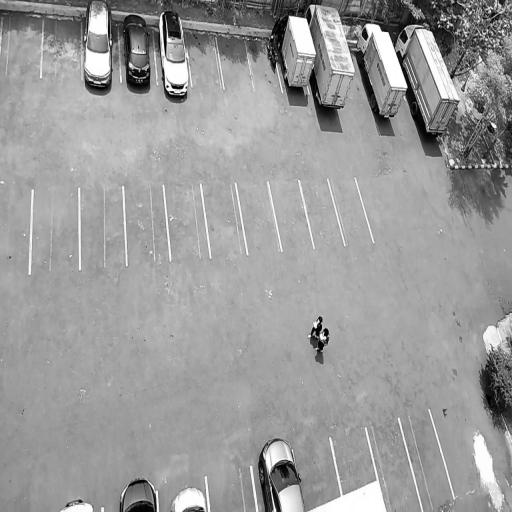Car: (392, 20, 462, 141), (350, 16, 410, 127), (302, 1, 358, 113), (271, 9, 320, 96), (255, 438, 305, 512), (156, 0, 190, 103), (80, 0, 115, 93), (120, 2, 154, 93), (117, 481, 161, 512), (169, 480, 207, 512), (59, 494, 95, 512)
Space Available: (400, 409, 454, 512), (366, 419, 423, 512), (31, 189, 79, 274), (81, 187, 126, 269), (125, 185, 171, 264), (164, 183, 210, 261), (201, 181, 247, 257), (294, 440, 340, 512), (330, 428, 377, 496), (236, 182, 281, 252), (269, 180, 313, 250), (300, 179, 344, 248), (330, 177, 374, 245), (0, 12, 43, 76), (0, 188, 31, 276), (41, 13, 82, 79), (185, 27, 223, 88), (207, 467, 257, 512), (216, 31, 254, 89)
